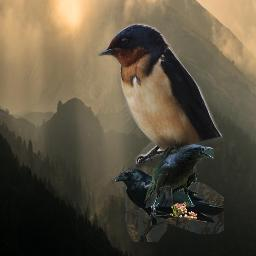Crow: (110, 166, 224, 242), (144, 144, 214, 214)
Swallow: (97, 23, 223, 168)
